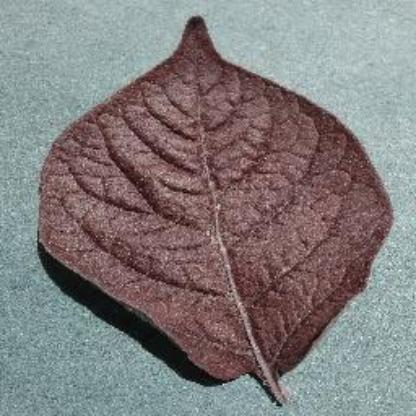Healthy-plant: (31, 13, 396, 406)
